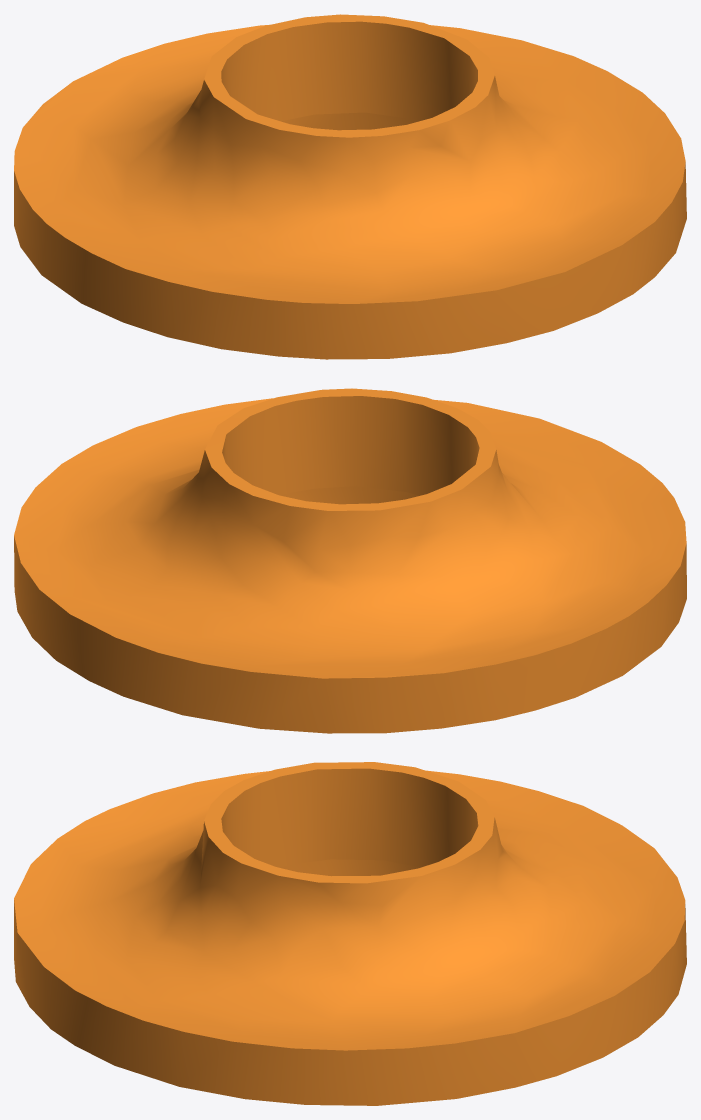
File: original-3.obj
3 renders of one model, top to bottom at view 1: azimuth 30°, elevation 25°; view 2: azimuth 150°, elevation 25°; view 3: azimuth 270°, elevation 25°, orthographic.
Parts seen in each view (by area): view 1: mesh3/mesh3-geometry#mesh3-geometry; view 2: mesh3/mesh3-geometry#mesh3-geometry; view 3: mesh3/mesh3-geometry#mesh3-geometry.
Boxes of the visible parts, <box> form: mesh3/mesh3-geometry#mesh3-geometry: <box>14,14,686,359</box>; mesh3/mesh3-geometry#mesh3-geometry: <box>14,388,686,733</box>; mesh3/mesh3-geometry#mesh3-geometry: <box>14,762,686,1105</box>.
Size of the model in its own units: 0.3075 by 0.0715 by 0.308.
